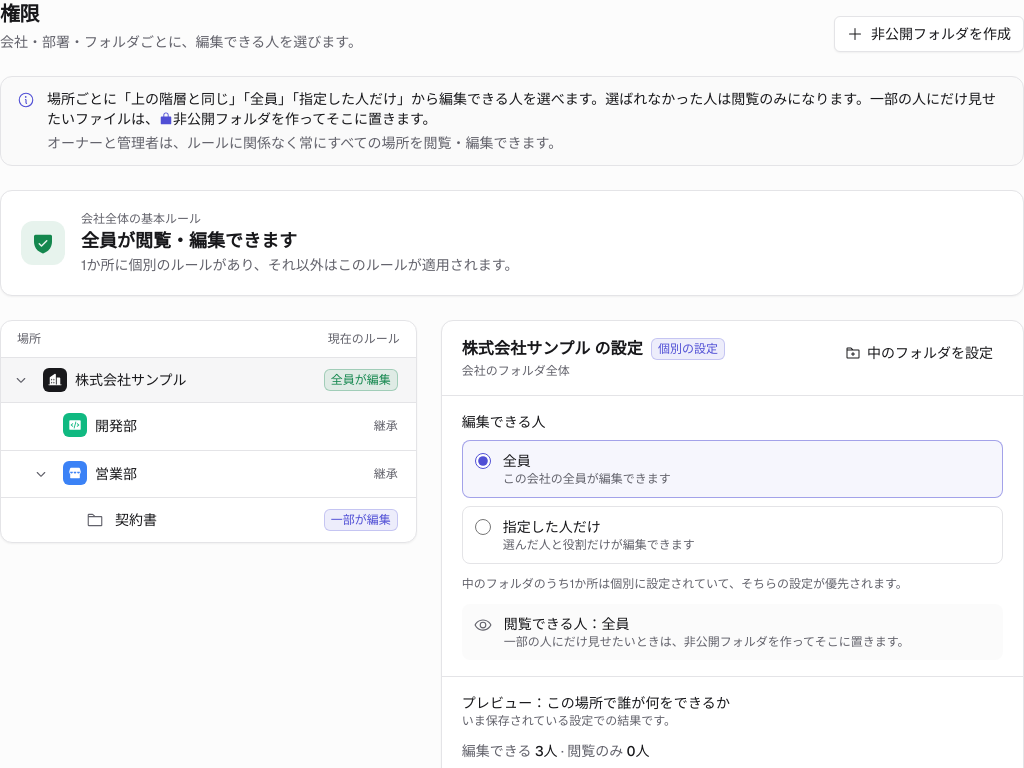
Test: outdated apps (409 OUTDATED_CLIENTS) › explains who must update, links to the members screen, and lets an owner save anyway
Click the button "契約書 一部が編集".
click(136, 520)  # box [77,504,404,536]
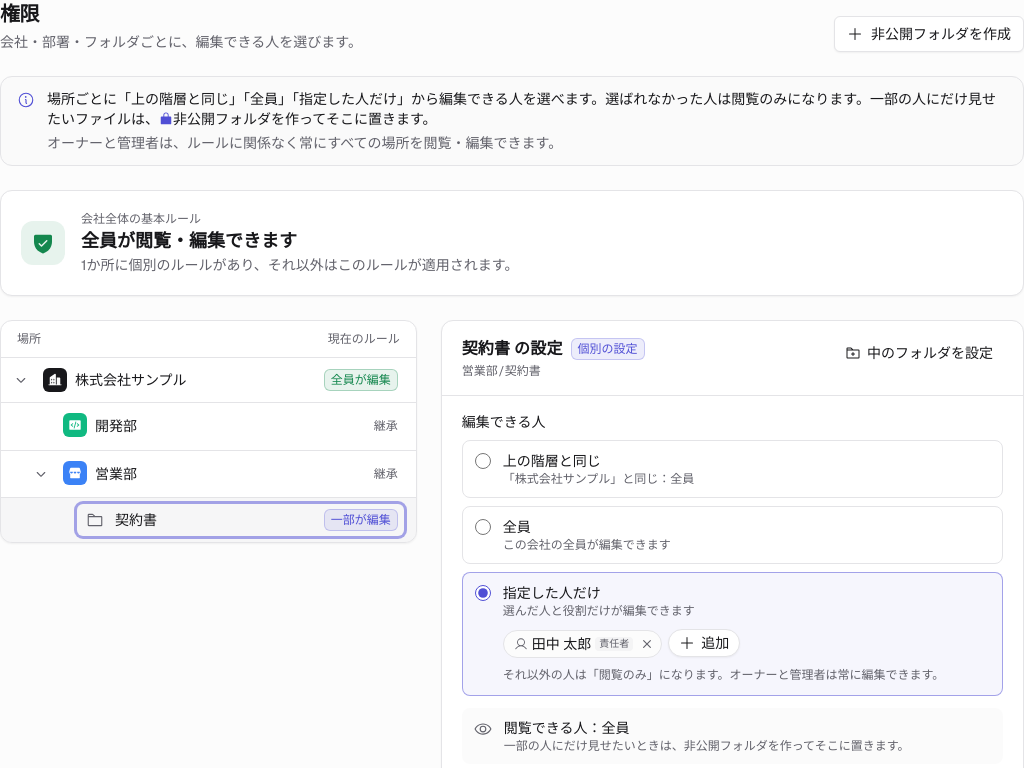
Click the button named "田中 太郎を外す".
click(647, 644)  # box [637,634,657,654]
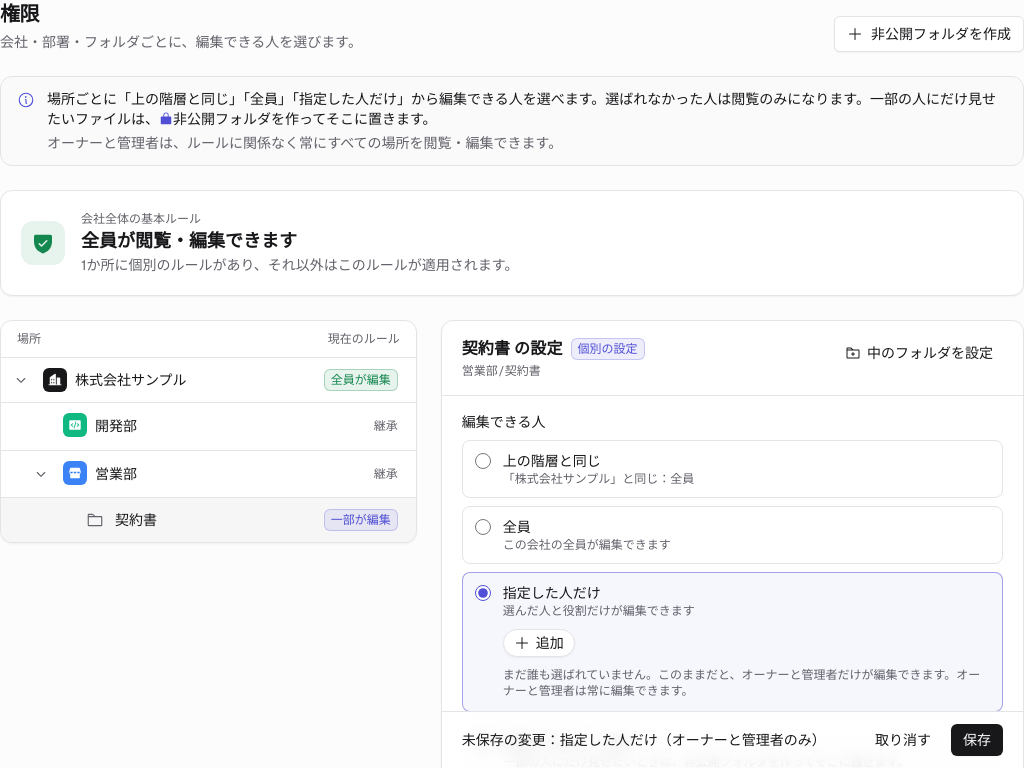
Click the button "保存".
click(977, 740)  # box [951,724,1003,756]
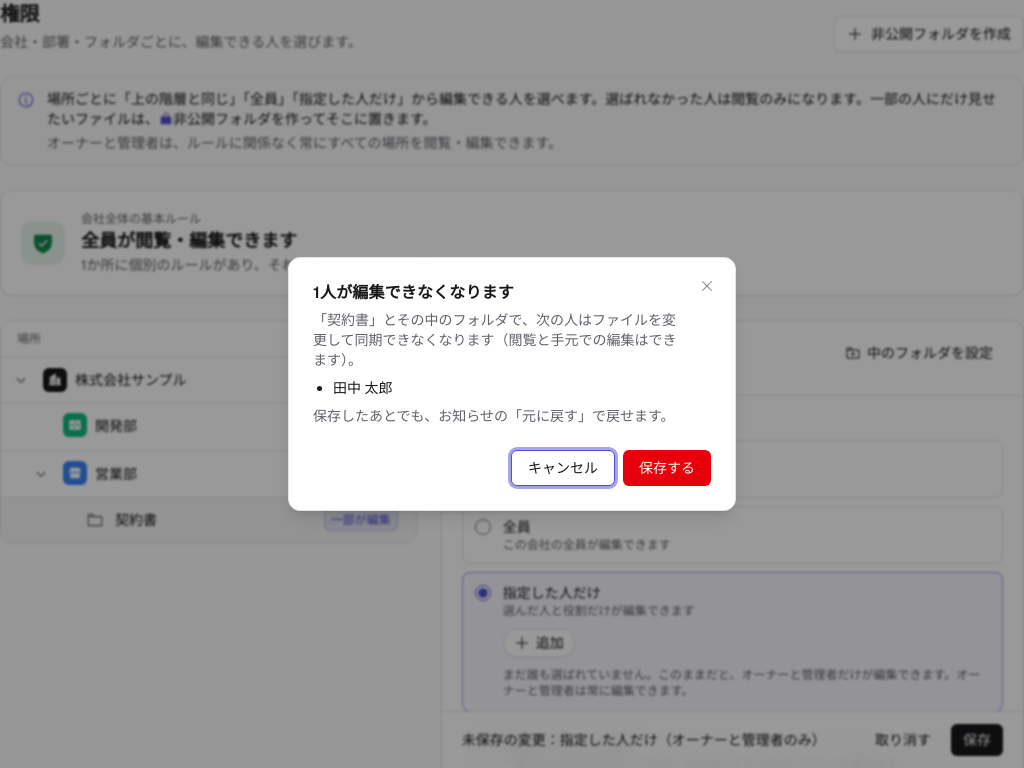
Click the button "保存する".
click(667, 468)  # box [623,450,711,486]
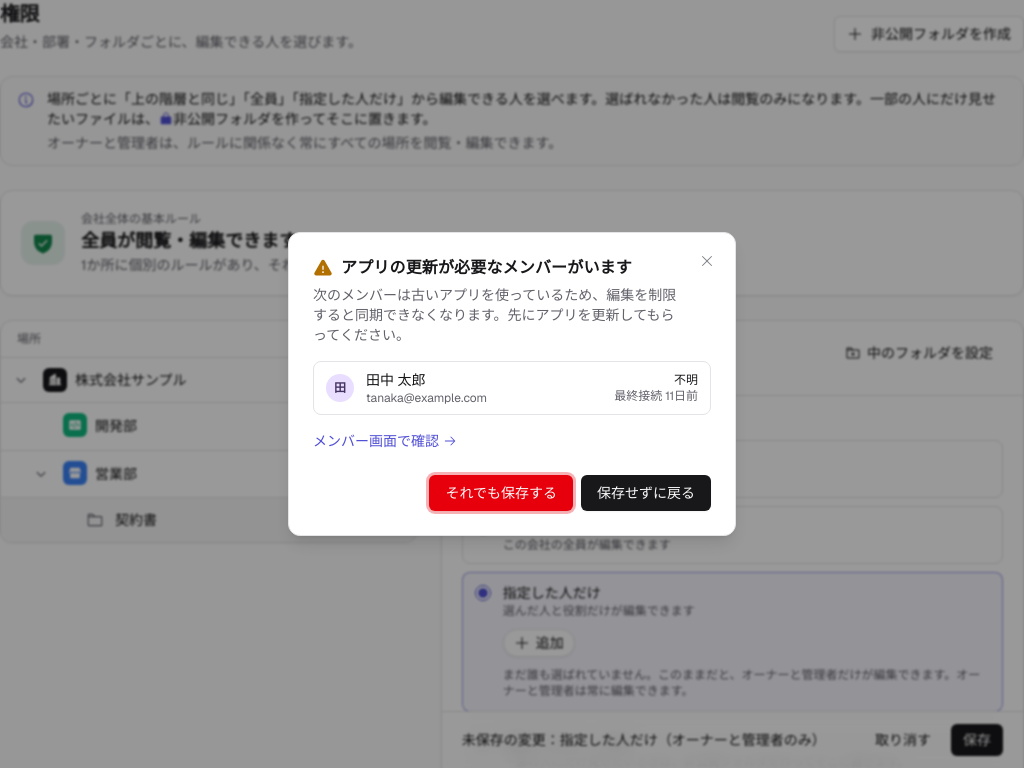
Check: the text "田中 太郎" is shown, box [366,371,425,389]
Check: the text "次のメンバーは古いアプリを使っているため、編集を制限すると同期できなくなります。先にアプリを更新してもらってください。" is shown, box [313,285,687,345]
Check: the text "tanaka@example.com" is shown, box [366,390,487,406]
Click the button "それでも保存する".
click(501, 493)  # box [429,475,573,511]
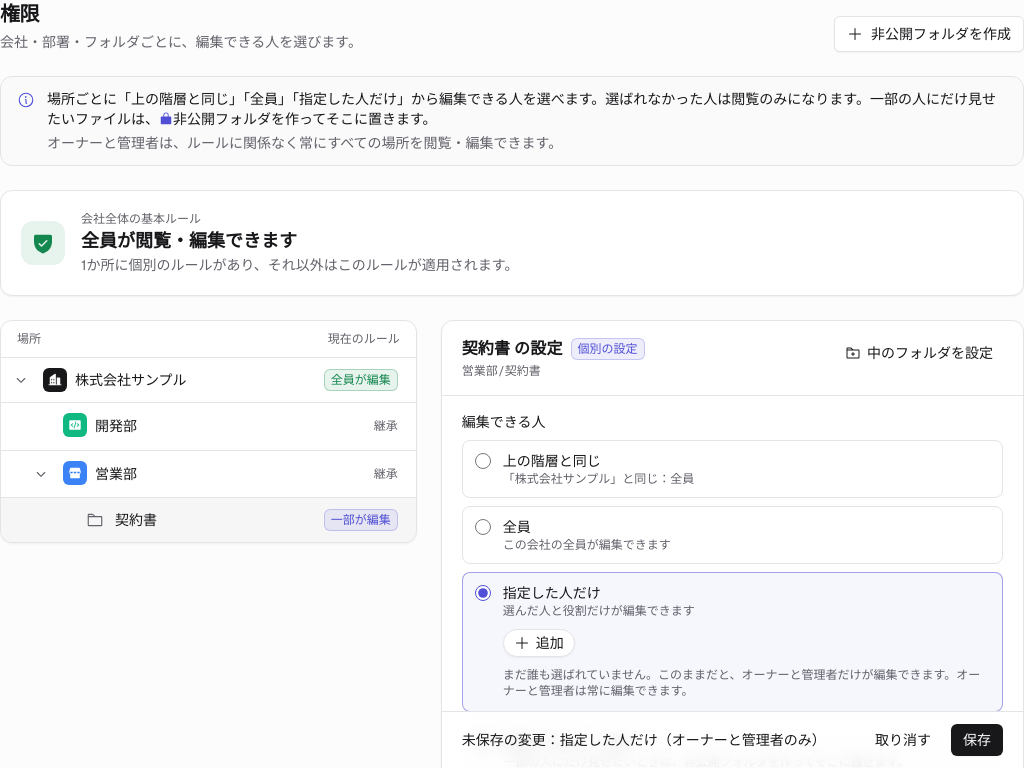
Check: the dialog is gone
